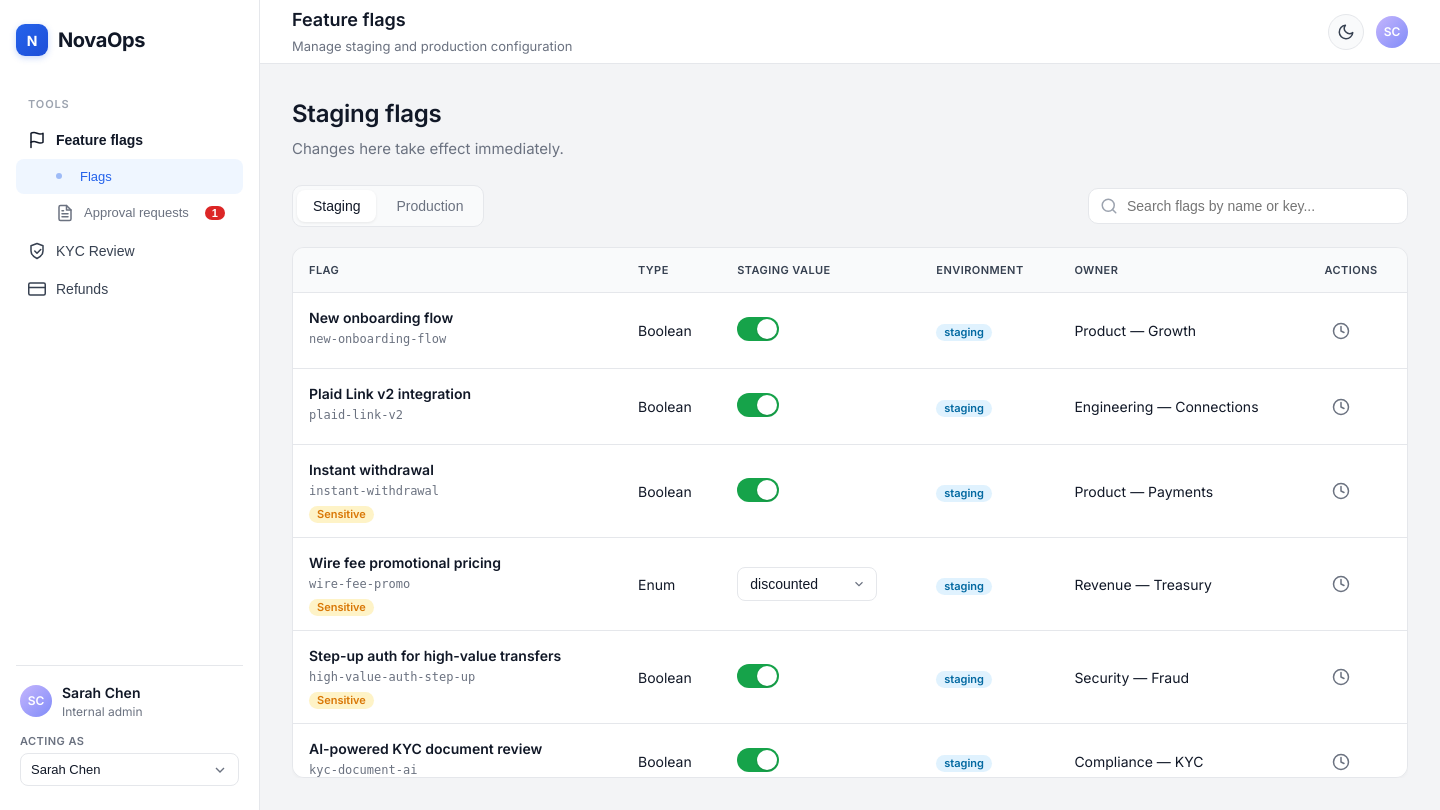
Test: Feature flags UI › blocks a user from approving their own sensitive production request
The image size is (1440, 810).
Expected: the heading "Feature flags" is shown, [292,9,406,30]
Click the button "Approval requests 1" at (130,212), box [16,194,243,232]
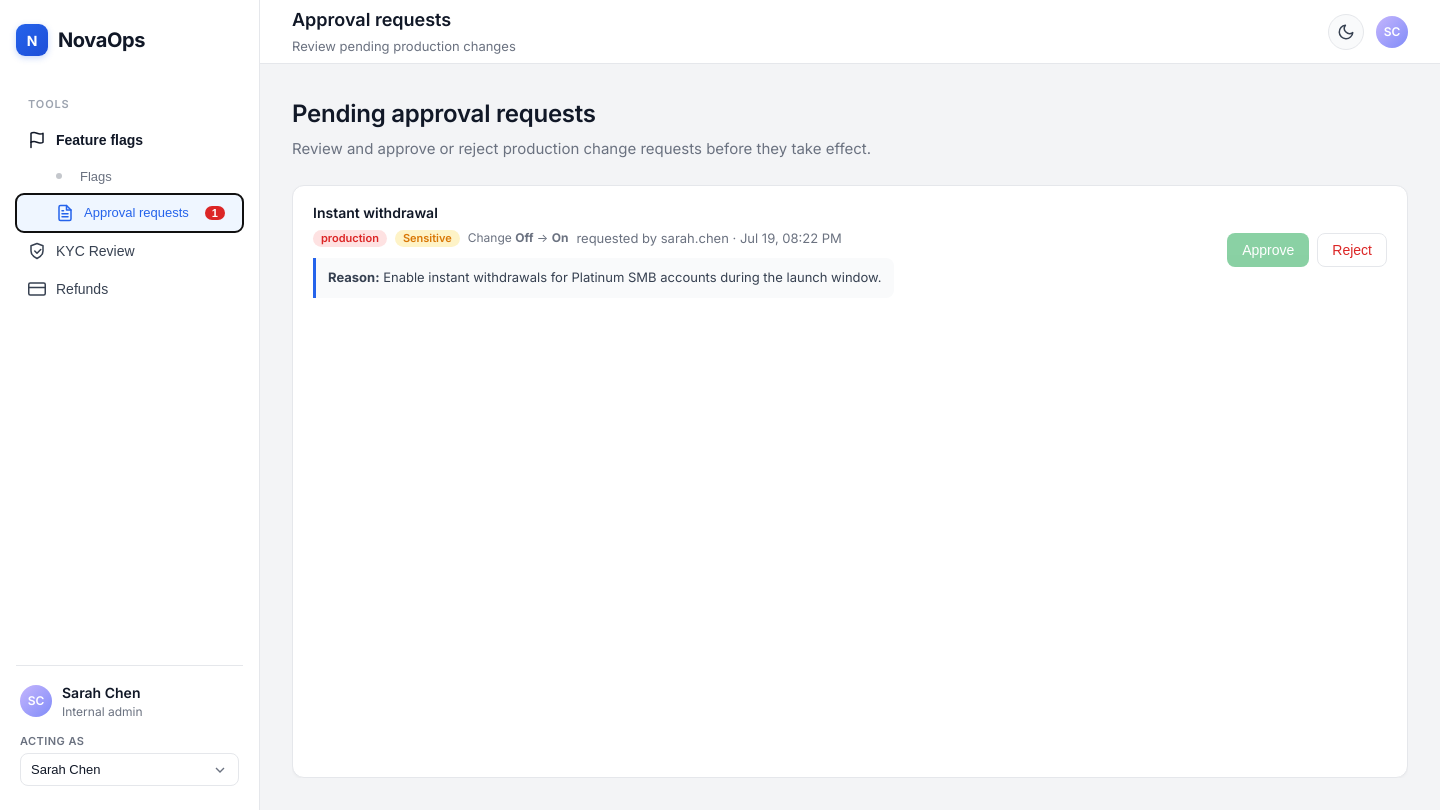
Expected: the heading "Approval requests" is shown, [292,9,451,30]
Expected: the button "Approve" is disabled, [1227,232,1309,266]
Select "Demo User" in the dropdown labelled "Acting as" at (130,770), box [20,753,239,786]
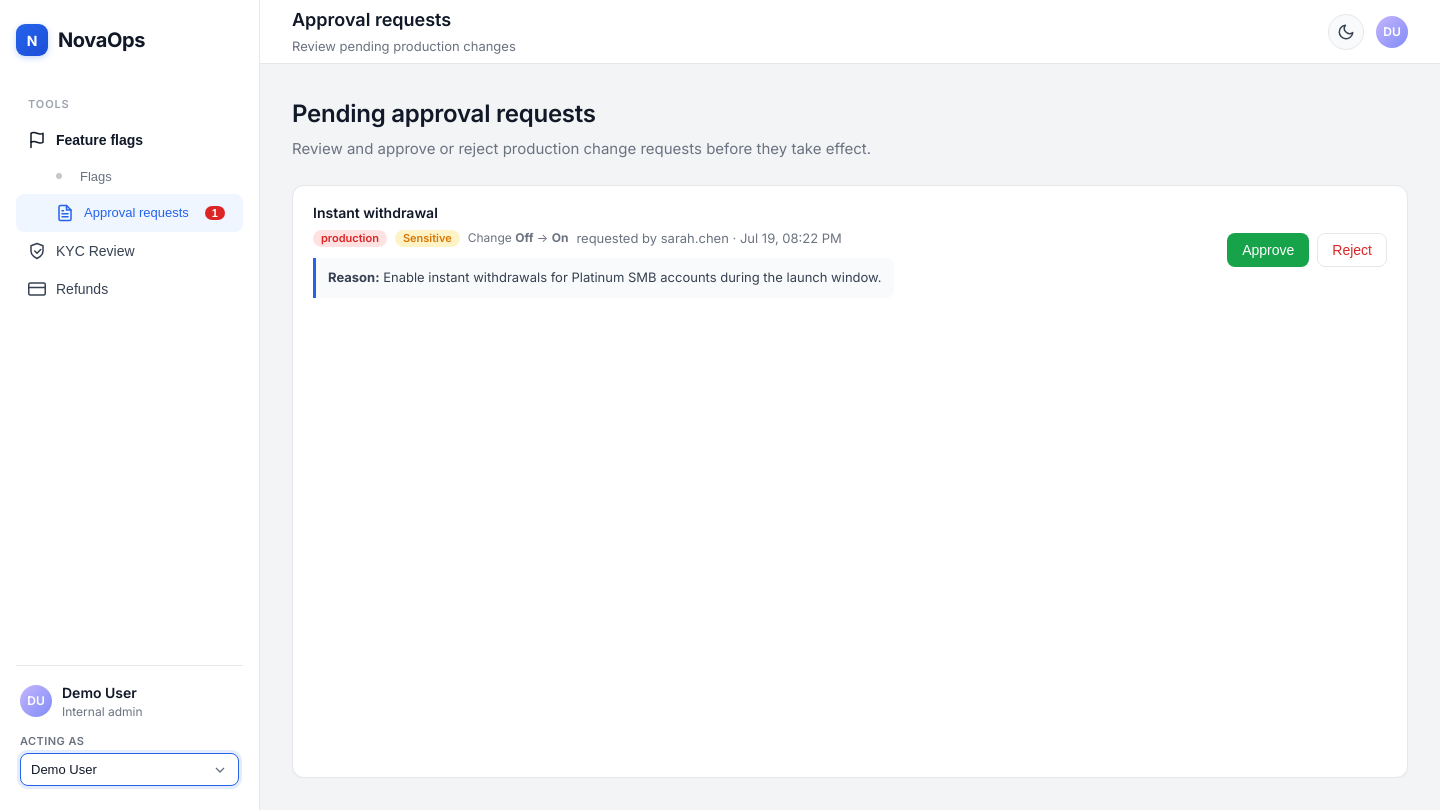
Expected: the button "Approve" is enabled, [1227,232,1309,266]
